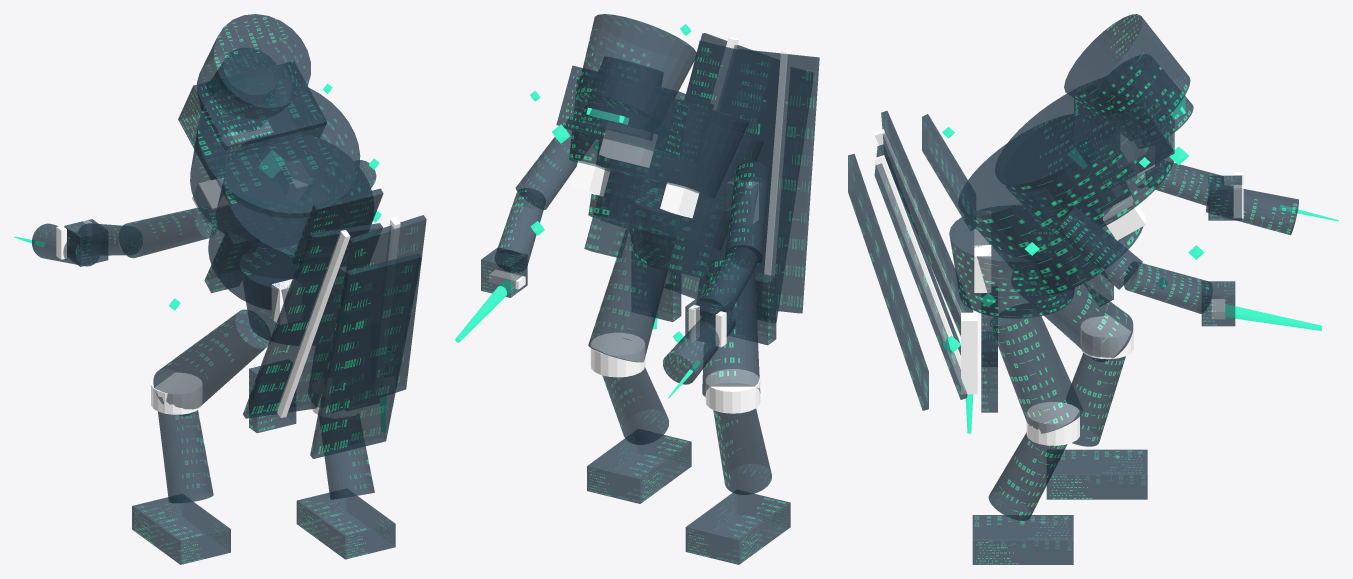
Rendered from espion.glb.
The picture shows the model from 3 angles, left to right: view 1: azimuth 30°, elevation 25°; view 2: azimuth 150°, elevation 25°; view 3: azimuth 270°, elevation 25°; orthographic projection. The views are drawn at different scales.
Parts seen in each view (by area): view 1: guerrier; view 2: guerrier; view 3: guerrier.
Boxes of the visible parts, x1,y1,x2,y2 form: guerrier: (14, 14, 426, 564); guerrier: (455, 14, 819, 564); guerrier: (848, 14, 1338, 564).
Bounding box in the file's own units: 0.8885 × 1.67 × 1.46.
